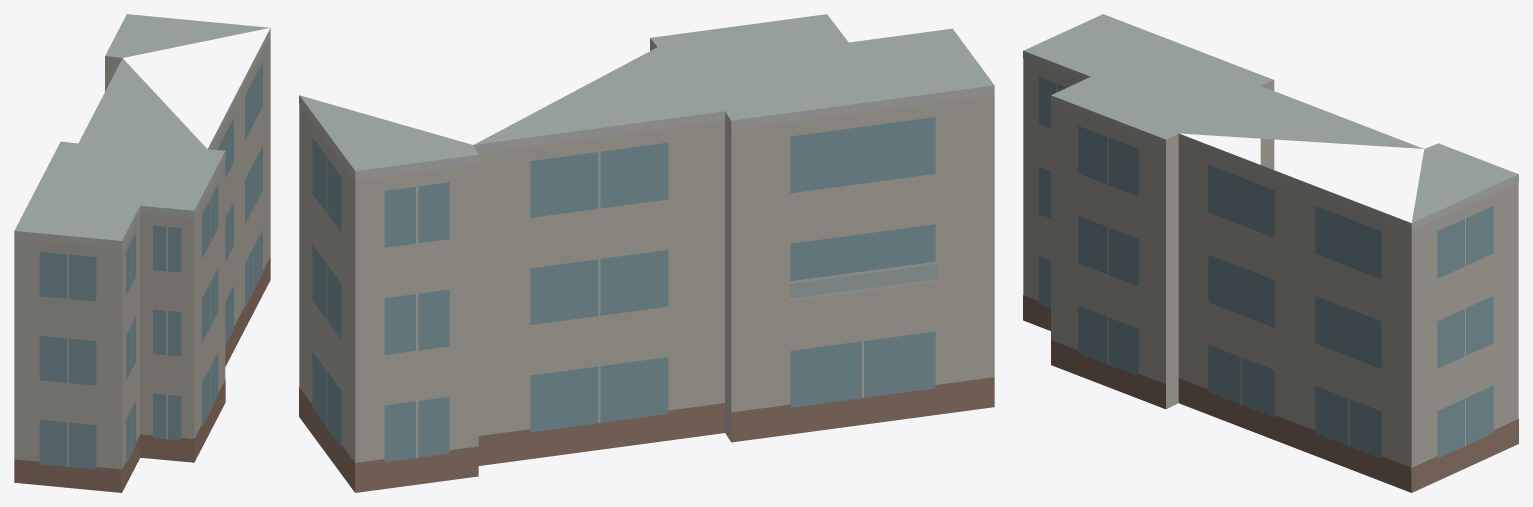
File: survey-upis-32969180.glb
The picture shows the model from 3 angles, left to right: view 1: azimuth 30°, elevation 25°; view 2: azimuth 150°, elevation 25°; view 3: azimuth 270°, elevation 25°; orthographic projection. The views are drawn at different scales.
Parts seen in each view (by area): view 1: survey-upis-32969180.tmp; view 2: survey-upis-32969180.tmp; view 3: survey-upis-32969180.tmp.
Boxes of the visible parts, left/top/right/bottom form: survey-upis-32969180.tmp: left=14, top=14, right=270, bottom=492; survey-upis-32969180.tmp: left=299, top=14, right=994, bottom=492; survey-upis-32969180.tmp: left=1023, top=14, right=1518, bottom=492.
Bounding box in the file's own units: 13.65 × 8.2 × 13.66.
